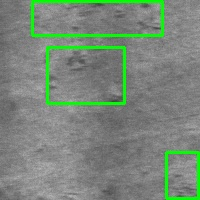rolled-in_scale: (32, 1, 162, 35), (47, 47, 124, 103), (166, 152, 198, 198)
